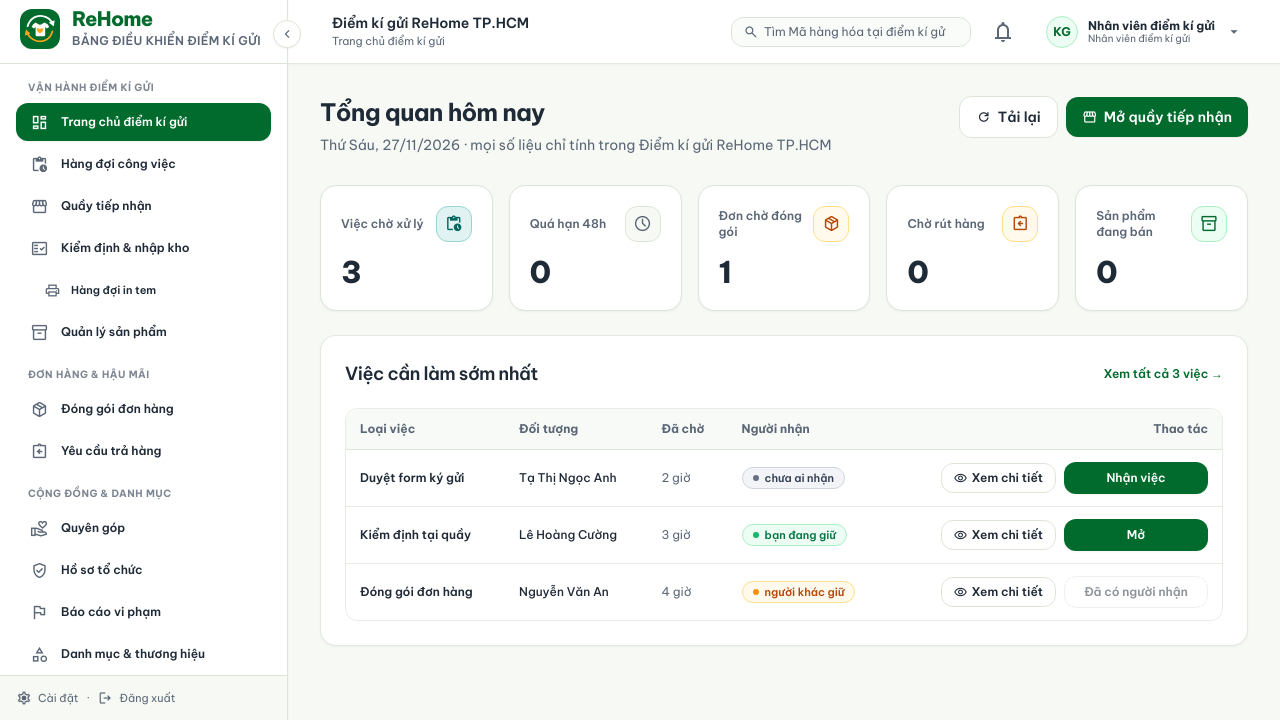
WarehouseHomePage action column alignment › uses fixed second grid track for claim/open/claimed-by-other slots so Xem chi tiết stays aligned across rows
Check: the number of elements with test id "home-task-actions-cell" is 3, box x1=940 y1=462 x2=1208 y2=494; x1=940 y1=519 x2=1208 y2=551; x1=940 y1=576 x2=1208 y2=608
Check: the button "Đã có người nhận" is disabled, box x1=1064 y1=576 x2=1208 y2=608
Click the button "Xem chi tiết" in the row of "Duyệt form ký gửi" at (998, 478), box x1=940 y1=463 x2=1056 y2=493
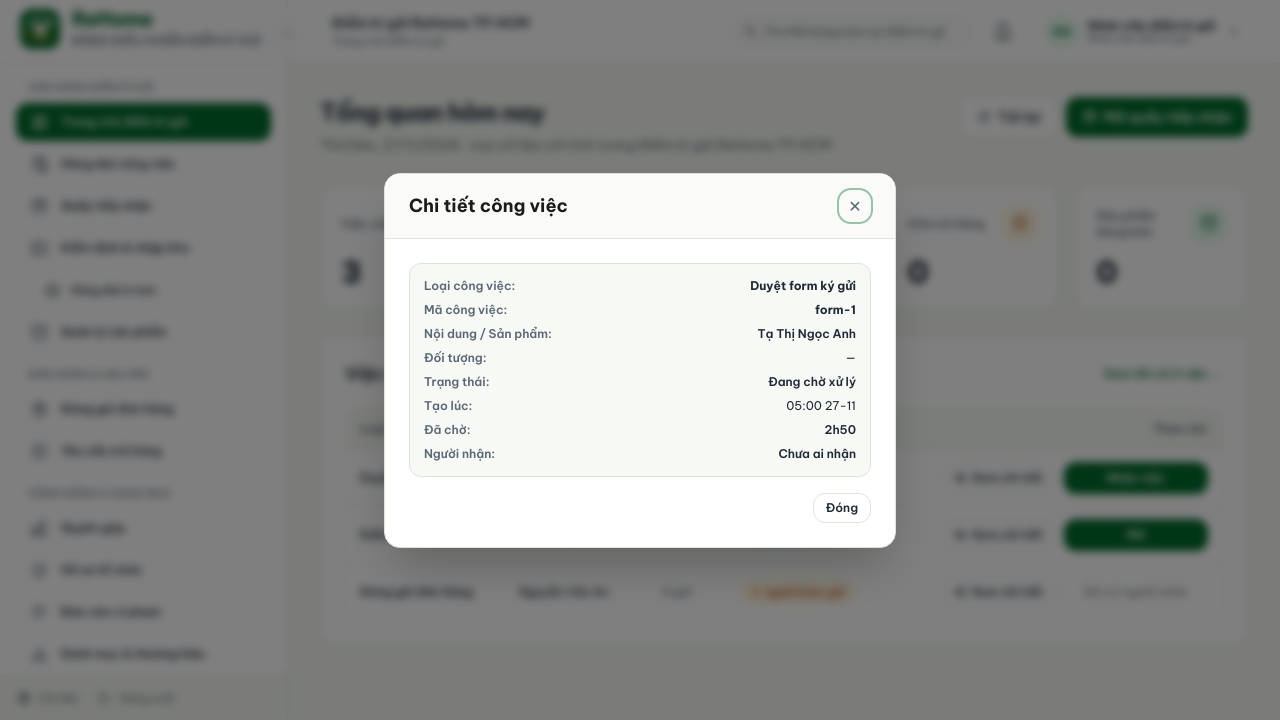
Check: the dialog is shown, box x1=384 y1=172 x2=896 y2=548
